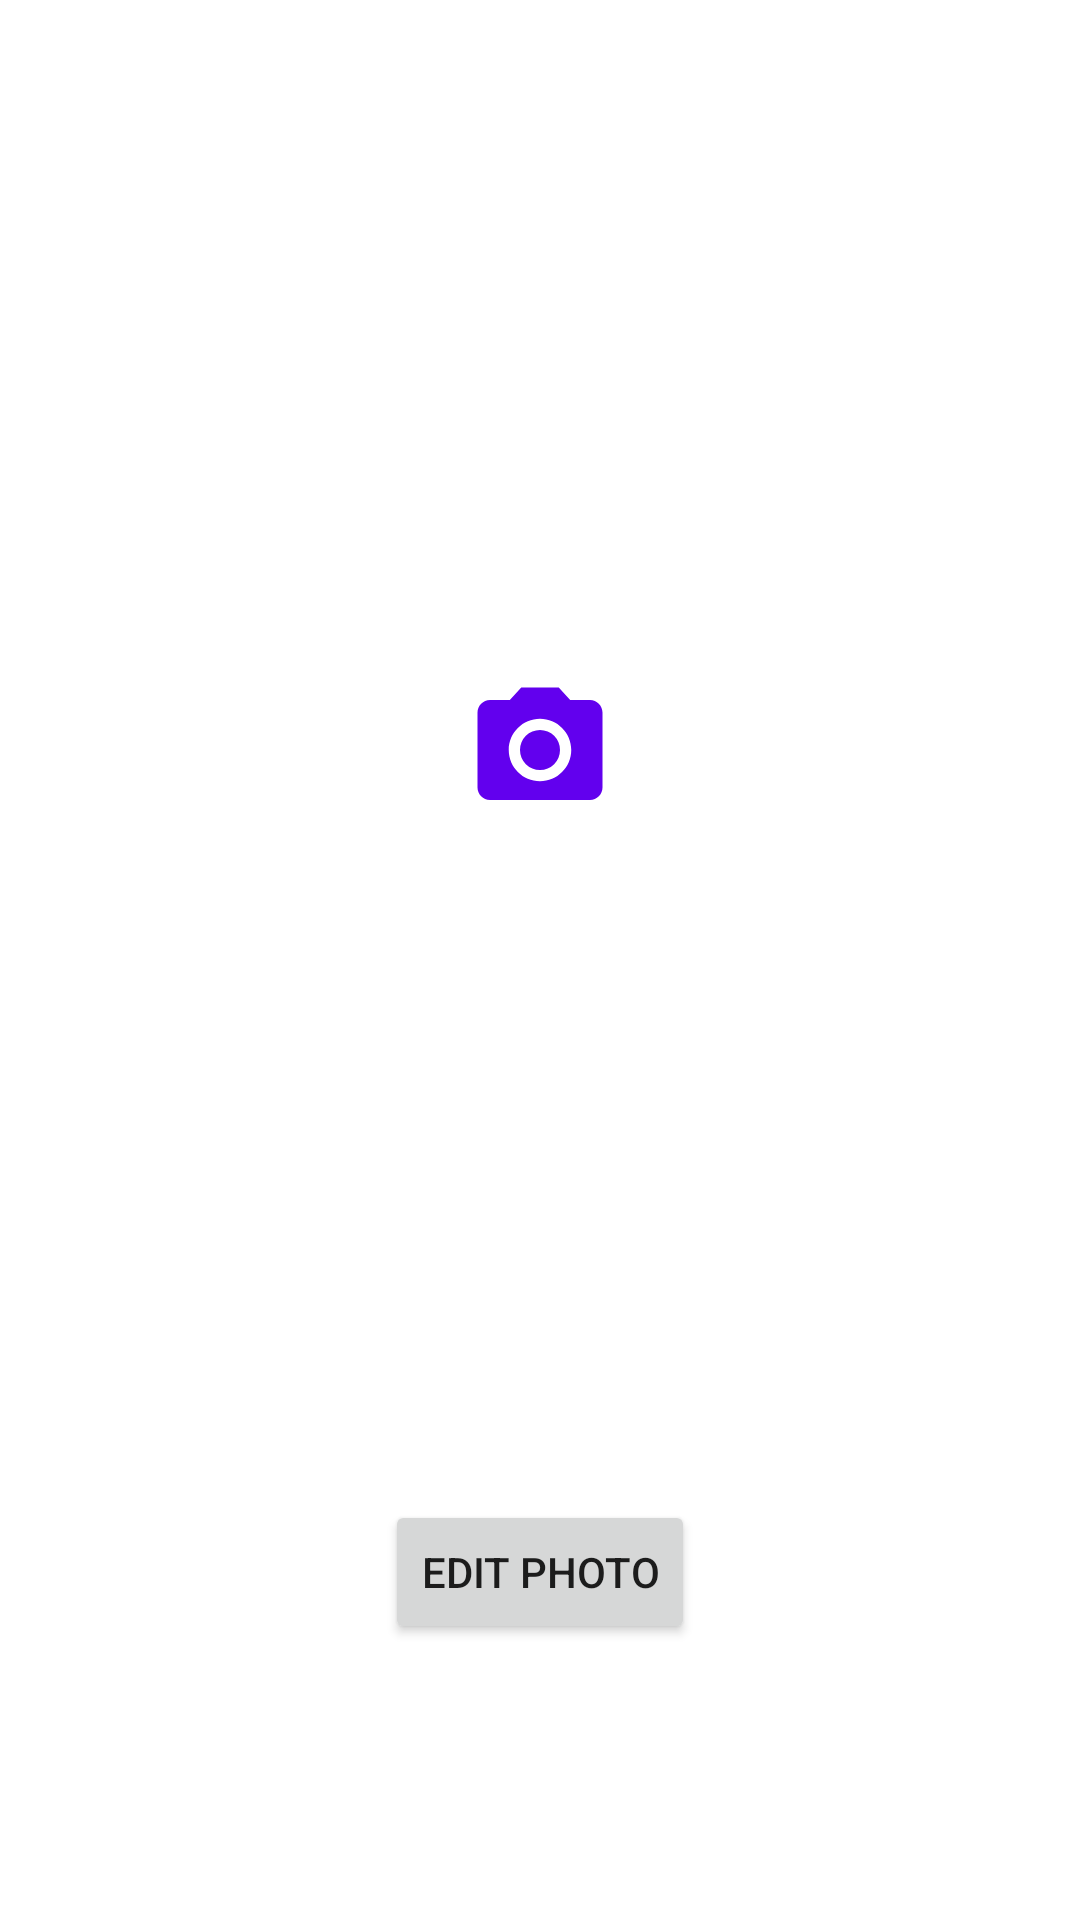

Icons on this 1080 x 1920 Android screen, each with the point to tap as (x,y):
photo camera: (540,743)
